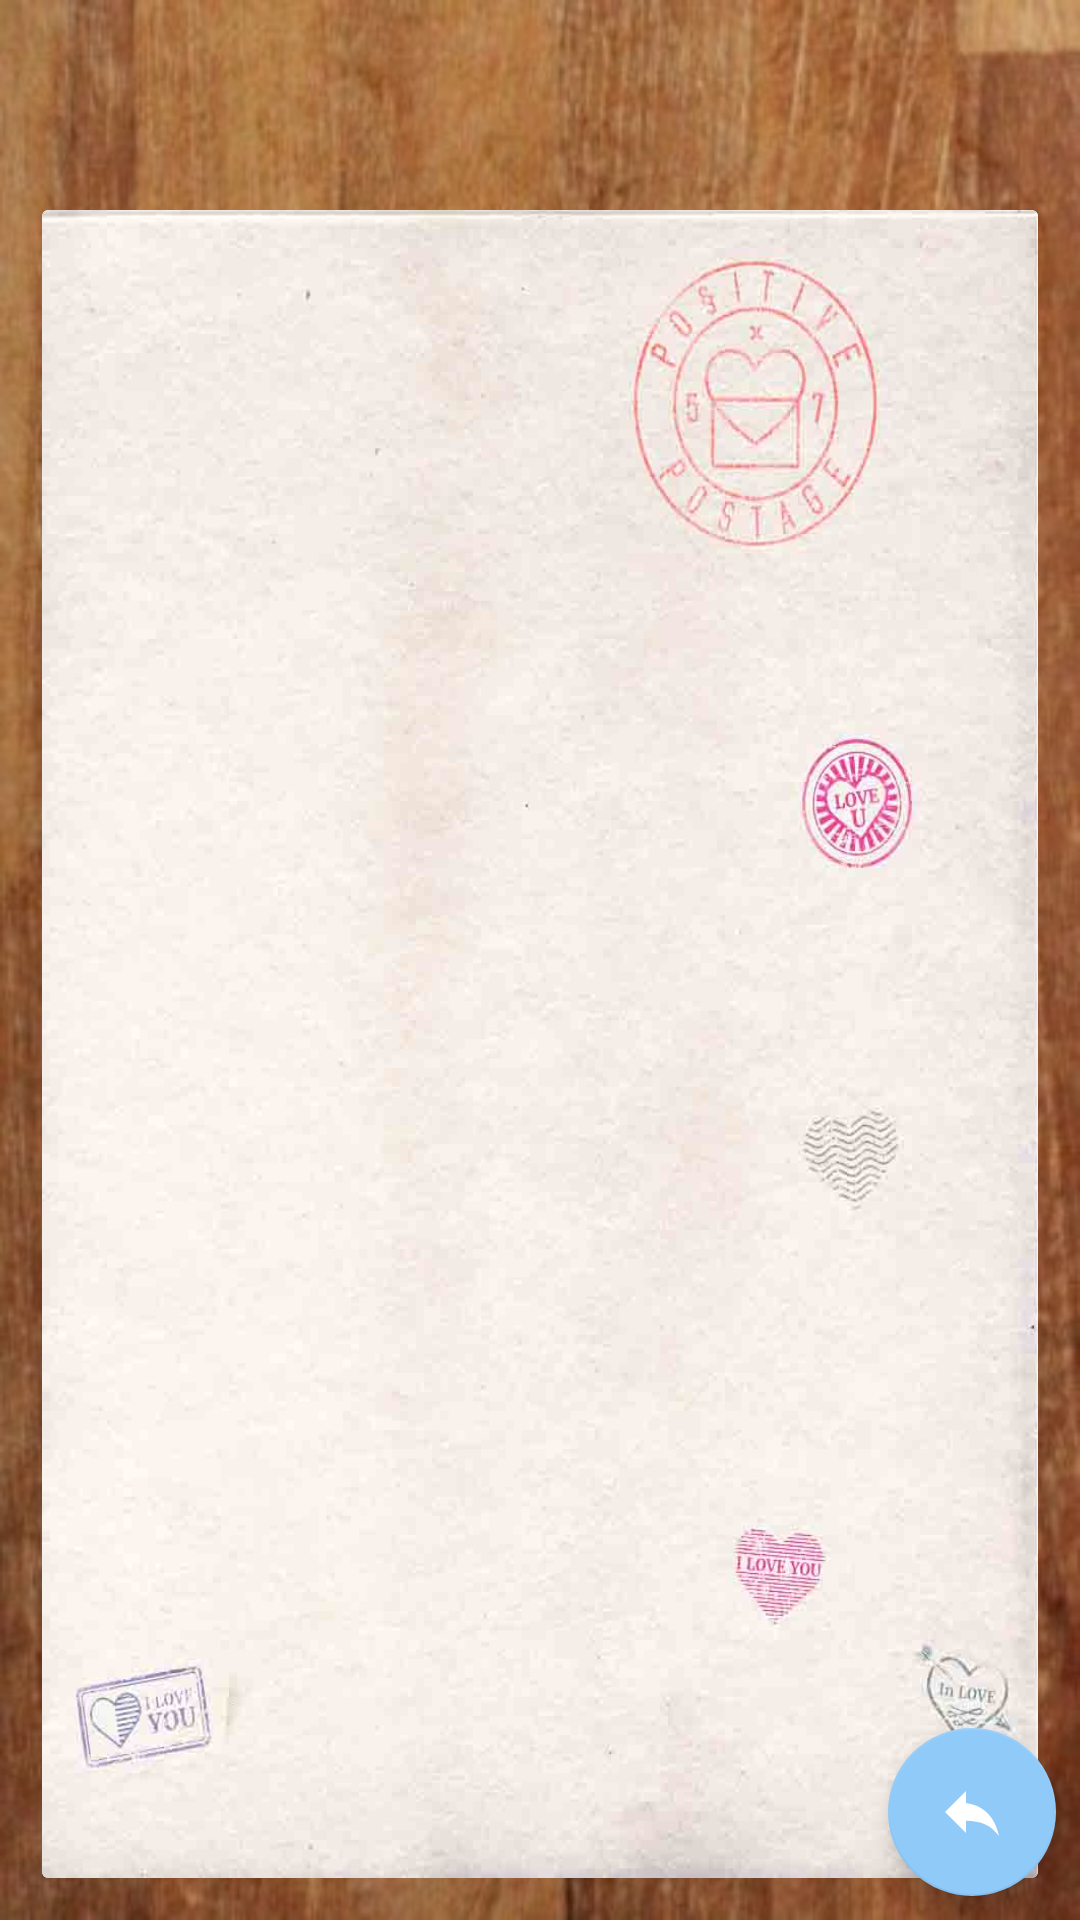

Where to tap for icons on this 1080x1920 app screen, as (x,y):
reply: (972,1812)
